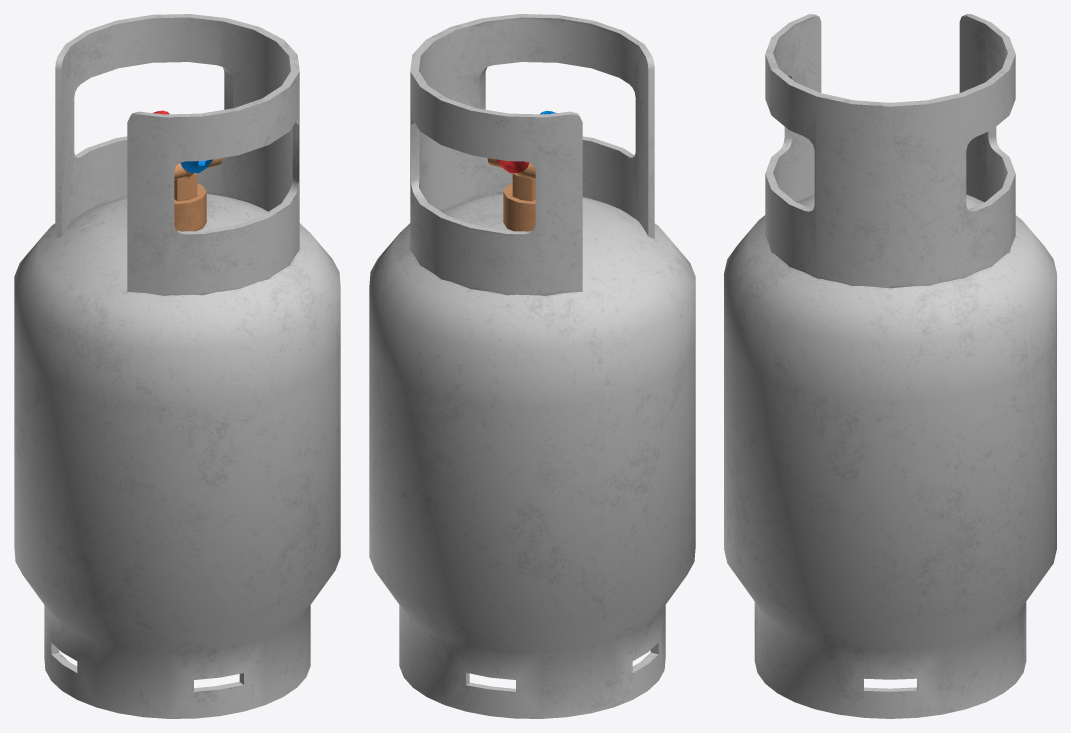
File: Tool_Ballon.glb
3 renders of one model, left to right at view 1: azimuth 30°, elevation 25°; view 2: azimuth 150°, elevation 25°; view 3: azimuth 270°, elevation 25°, orthographic.
Visible parts, largest first — view 1: Tool_Ballon; view 2: Tool_Ballon; view 3: Tool_Ballon.
Boxes of the visible parts, box(x1,y1,x2,y2) form: Tool_Ballon: box(14, 14, 340, 718); Tool_Ballon: box(369, 14, 695, 718); Tool_Ballon: box(724, 14, 1056, 718).
Bounding box in the file's own units: 0.22 × 0.4435 × 0.22.
Materials: 1 (1 with a texture image).
